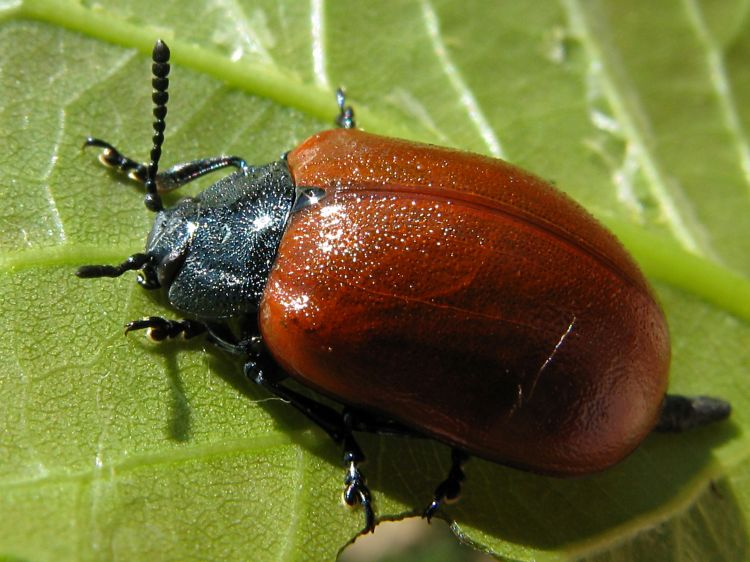Chrysomela_populi: (61, 33, 677, 540)
